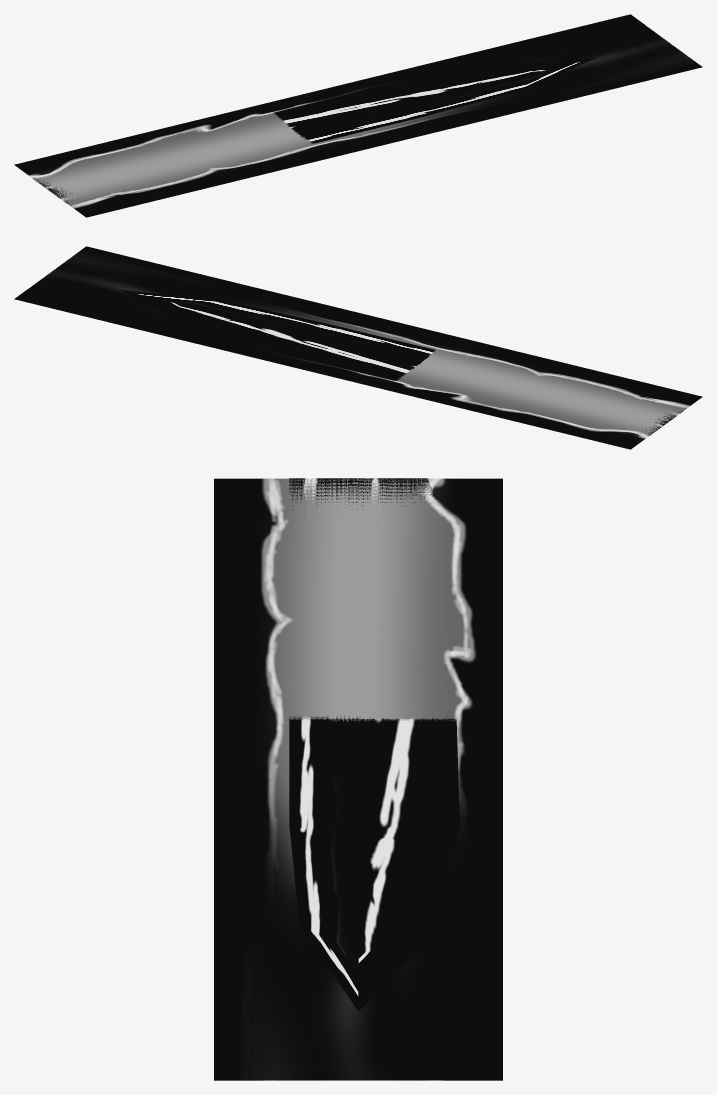
Rendered from obj_RmanSwordo01_.FBX.
3 renders of one model, top to bottom at view 1: azimuth 30°, elevation 25°; view 2: azimuth 150°, elevation 25°; view 3: azimuth 270°, elevation 25°, orthographic. The views are drawn at different scales.
Visible parts, largest first — view 1: obj_Rman_Weapon01_; view 2: obj_Rman_Weapon01_; view 3: obj_Rman_Weapon01_.
Boxes of the visible parts, left/top/right/bottom form: obj_Rman_Weapon01_: left=14, top=14, right=702, bottom=217; obj_Rman_Weapon01_: left=14, top=246, right=702, bottom=449; obj_Rman_Weapon01_: left=214, top=478, right=502, bottom=1080.
Bounding box in the file's own units: 413 × 0.00108 × 83.88.
